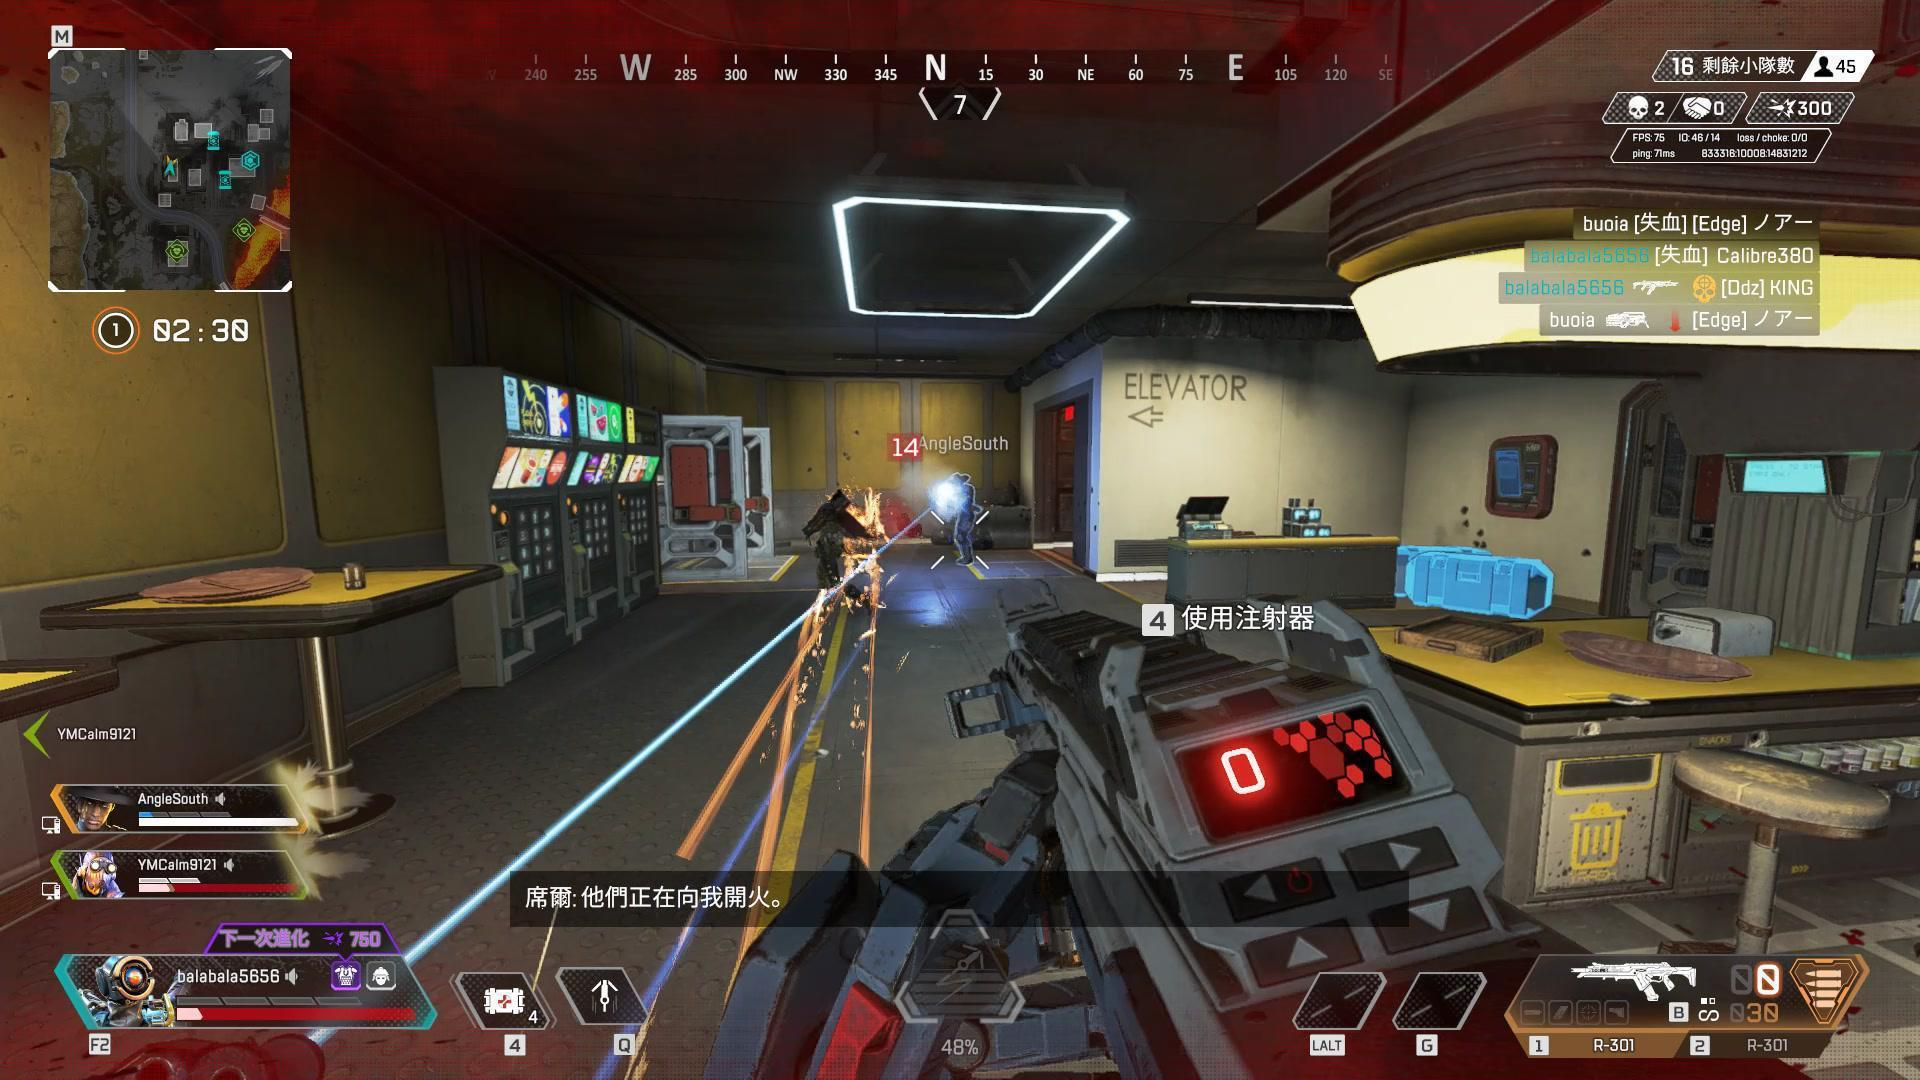avatar: (946, 470, 978, 567)
object: (926, 478, 969, 522)
